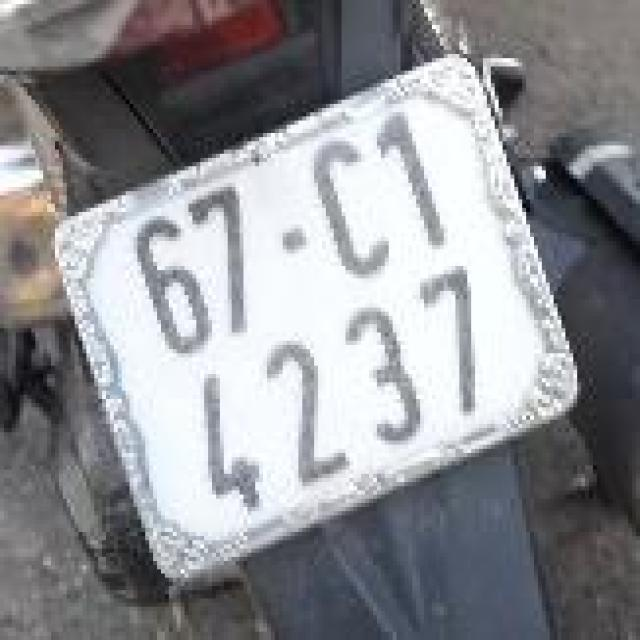1: (357, 90, 471, 264)
2: (246, 323, 366, 502)
3: (332, 284, 444, 461)
4: (170, 358, 284, 533)
6: (124, 197, 224, 378)
7: (178, 170, 287, 356), (402, 255, 499, 432)
C: (294, 121, 407, 295)
